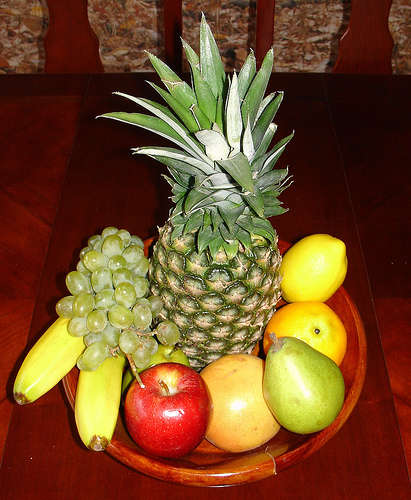pineapple: (90, 5, 299, 373)
